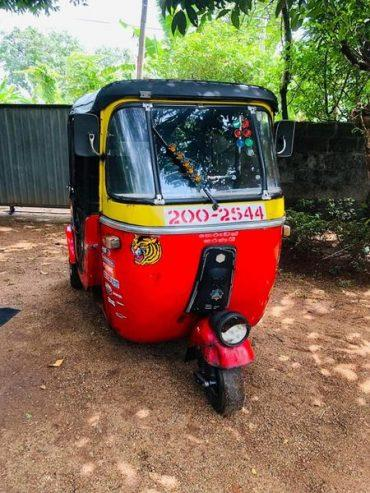threewheel: (64, 79, 295, 418)
